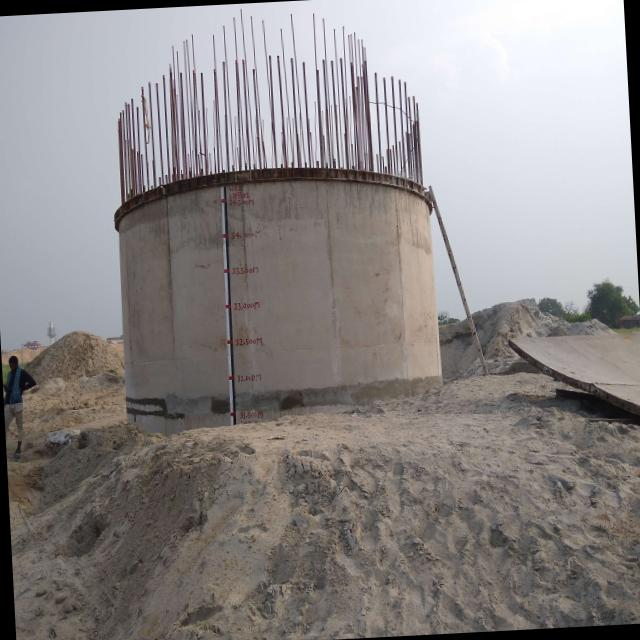cement: (115, 169, 442, 433)
red-sand: (21, 331, 125, 395)
white-sand: (7, 373, 640, 640), (472, 298, 608, 374), (439, 319, 480, 380)
